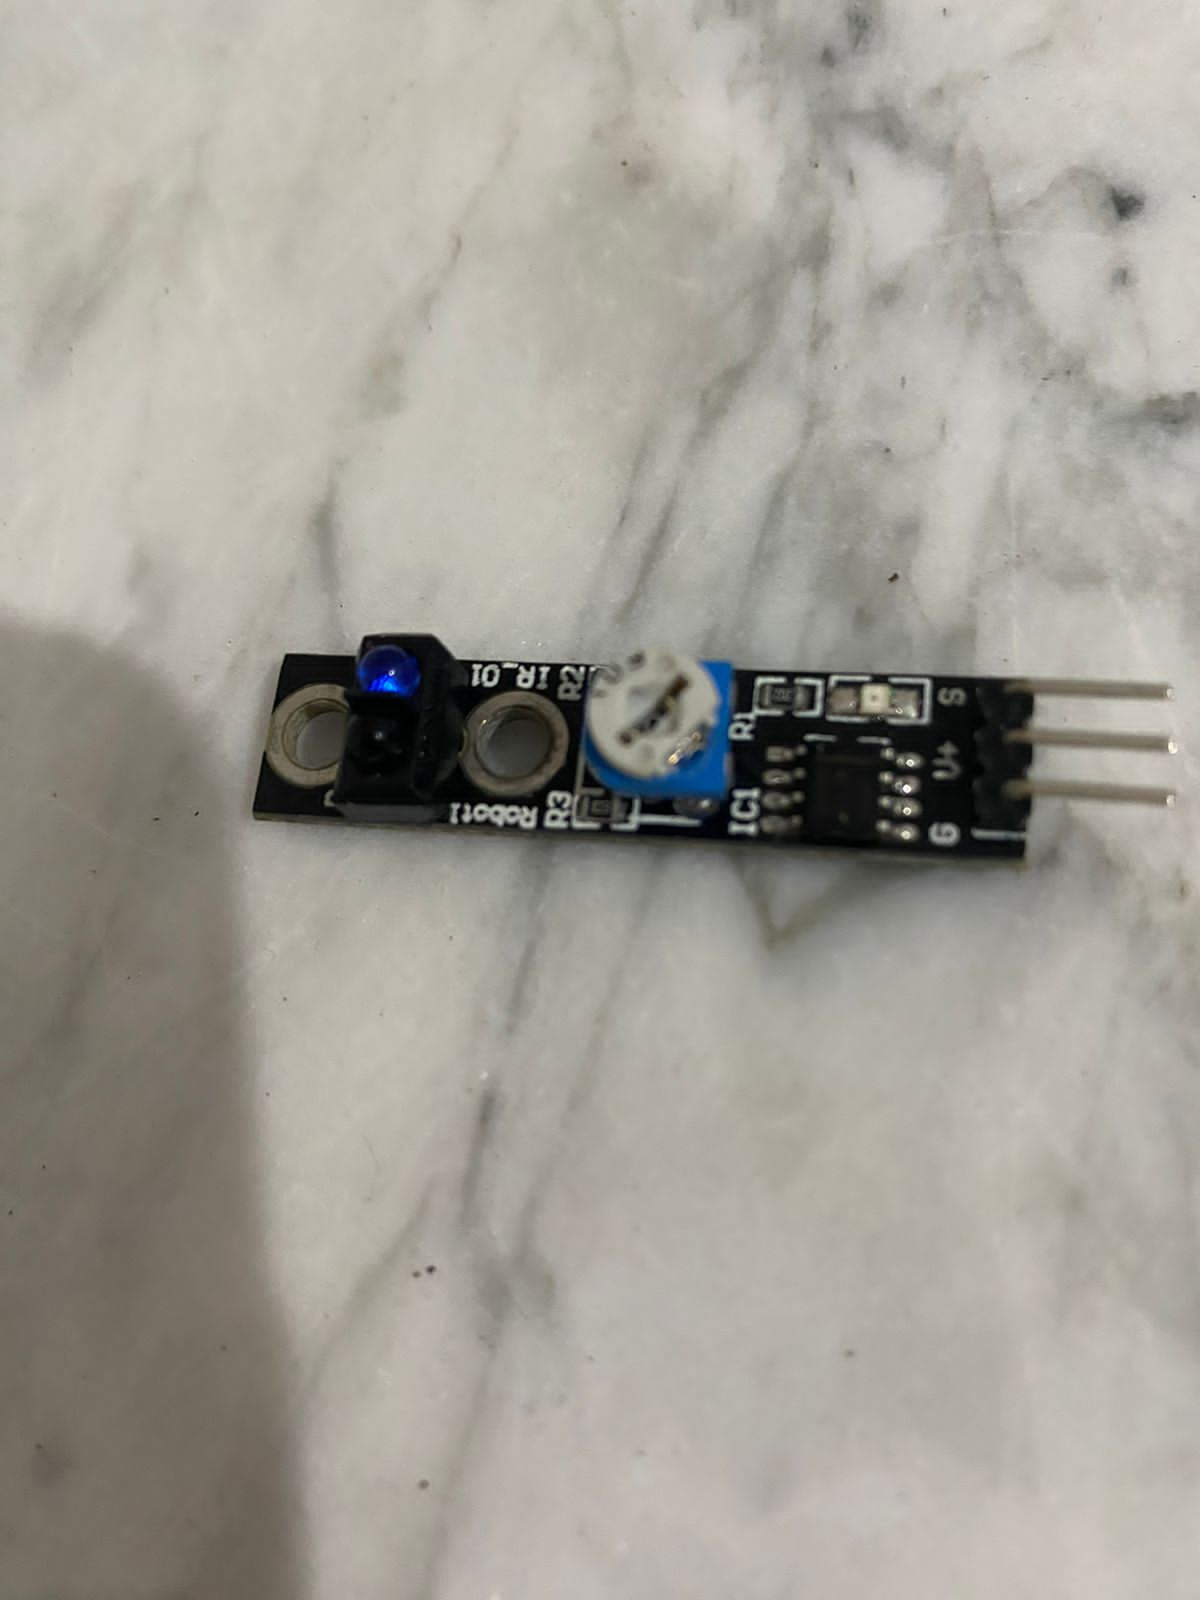ir-sensor: (243, 606, 1184, 903)
